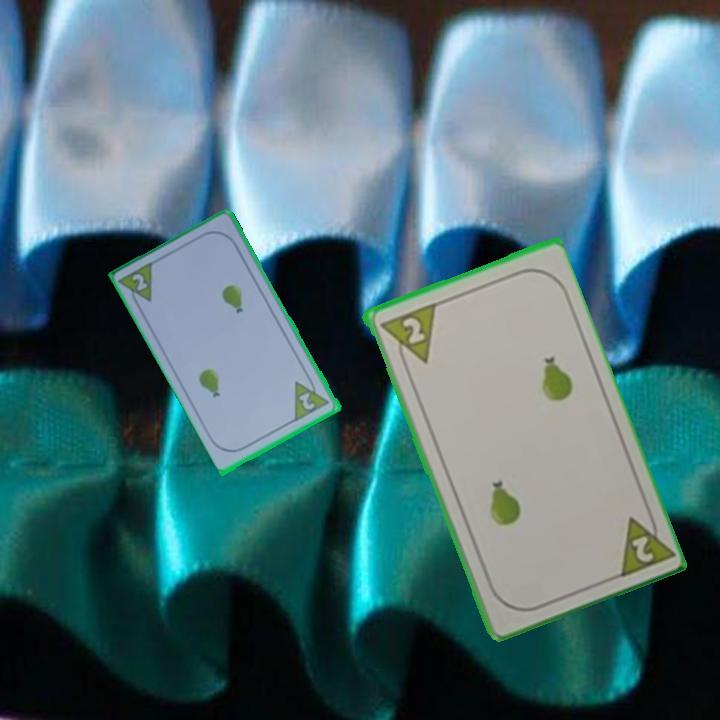2p: (612, 505, 674, 581), (376, 299, 438, 373), (291, 372, 333, 423), (129, 270, 151, 294)
